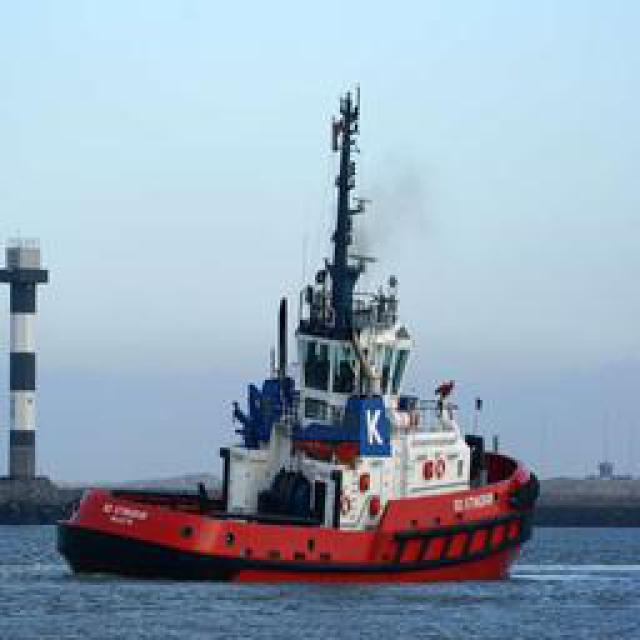Ship: (57, 76, 540, 586)
